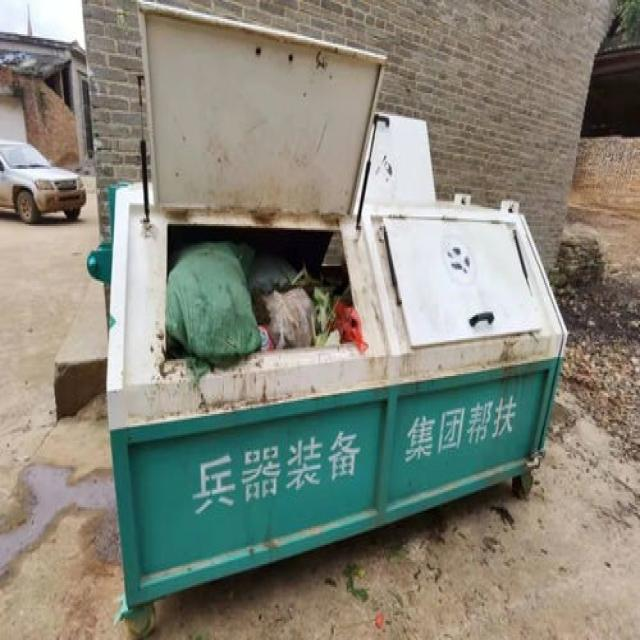overflow: (87, 177, 567, 638)
